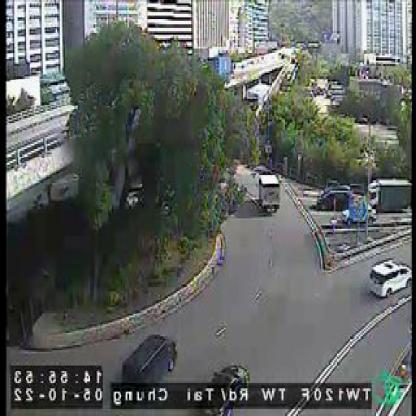Car: (122, 335, 178, 383), (368, 260, 412, 295), (317, 185, 355, 210)
Truck: (369, 177, 412, 206), (260, 174, 280, 214)
